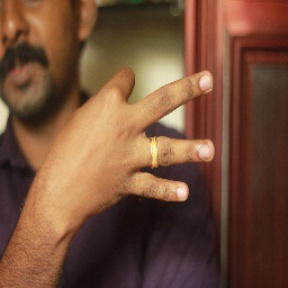K: (49, 66, 221, 211)
